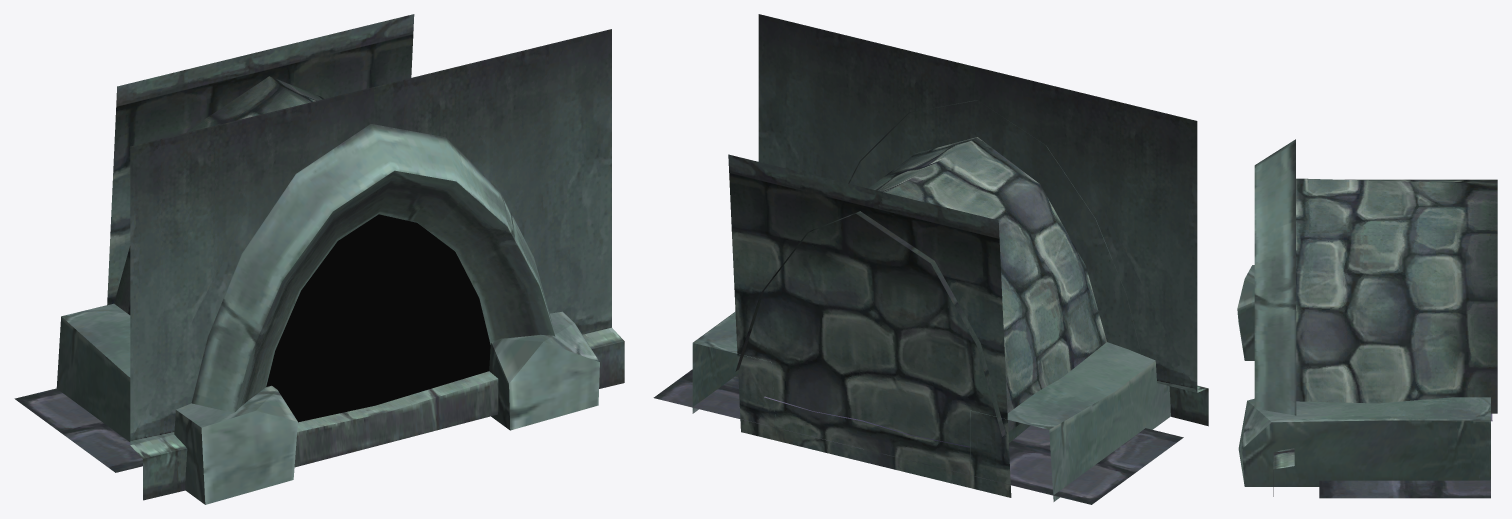
Rendered from crypt_half_straight_04.fbx.
3 renders of one model, left to right at view 1: azimuth 30°, elevation 25°; view 2: azimuth 150°, elevation 25°; view 3: azimuth 270°, elevation 25°, orthographic. The views are drawn at different scales.
Visible parts, largest first — view 1: crypt_half_straight_04-0; view 2: crypt_half_straight_04-0; view 3: crypt_half_straight_04-0.
Part boxes in pixels (x1,y1,x2,y2): crypt_half_straight_04-0: (14,14,624,504); crypt_half_straight_04-0: (653,14,1208,504); crypt_half_straight_04-0: (1237,139,1497,498).
Size of the model in its own units: 4 by 2.79 by 2.21.
